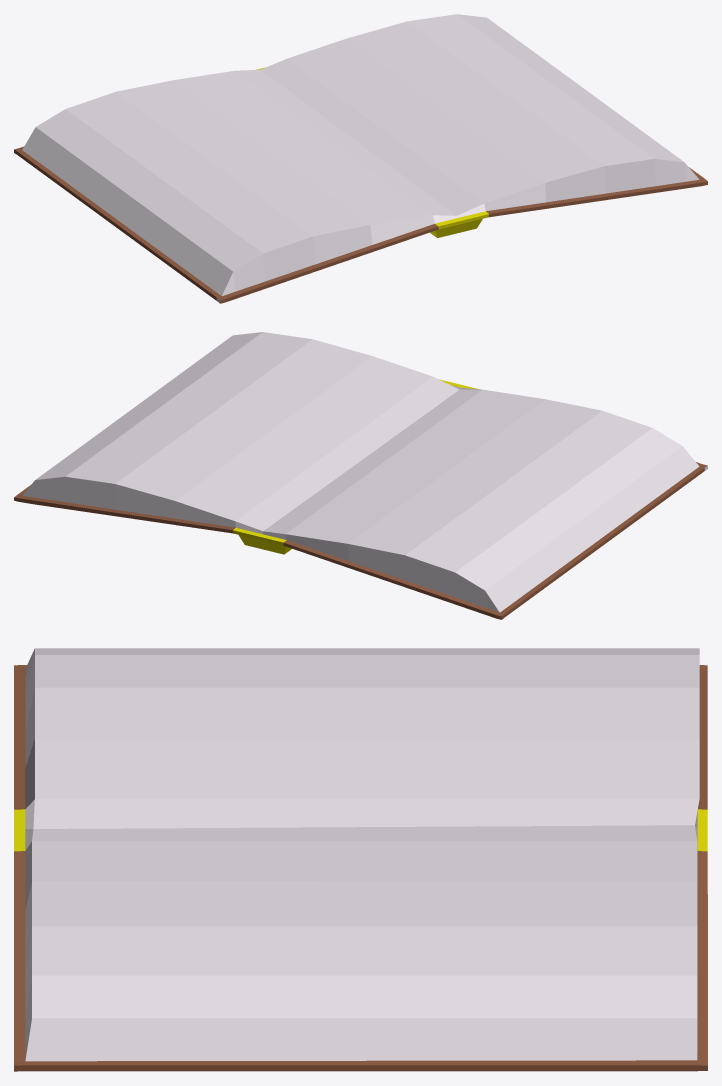
The model's file is Libro.fbx.
The picture shows the model from 3 angles, top to bottom: view 1: azimuth 30°, elevation 25°; view 2: azimuth 150°, elevation 25°; view 3: azimuth 270°, elevation 25°; orthographic projection. The views are drawn at different scales.
Visible parts, largest first — view 1: Cube.001; view 2: Cube.001; view 3: Cube.001.
Part boxes in pixels (x1=…): Cube.001: x1=14, y1=14, x2=707, y2=303; Cube.001: x1=14, y1=332, x2=707, y2=619; Cube.001: x1=14, y1=648, x2=707, y2=1071.
Bounding box in the file's own units: 130 × 9.87 × 95.48.
